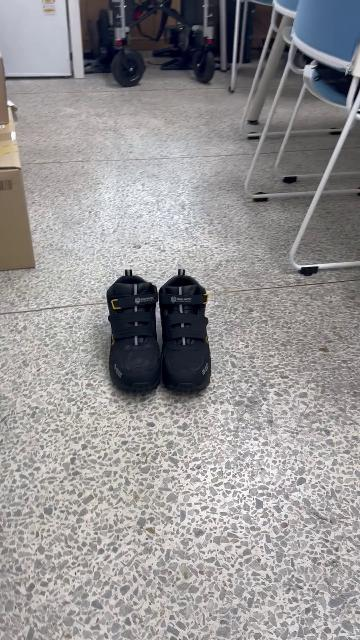shoe_worn: (103, 267, 163, 394), (157, 267, 216, 395)
